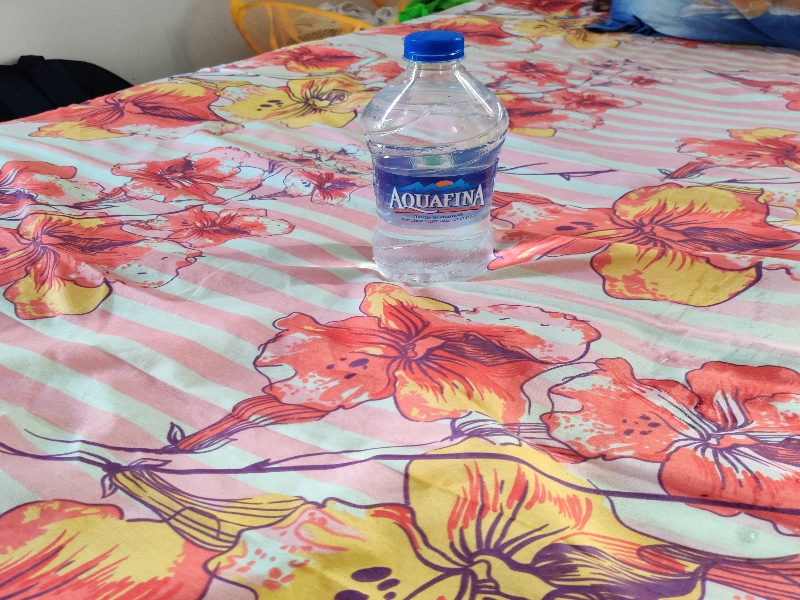bottle: (350, 28, 507, 289)
